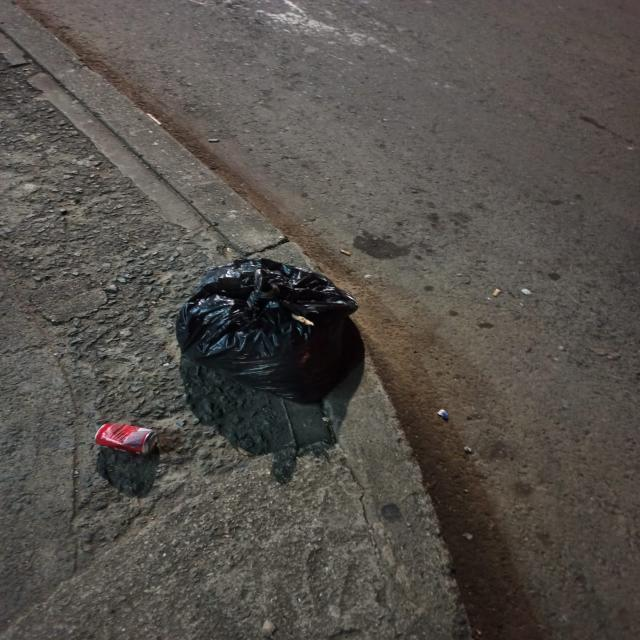Trashbag: (171, 258, 381, 441)
